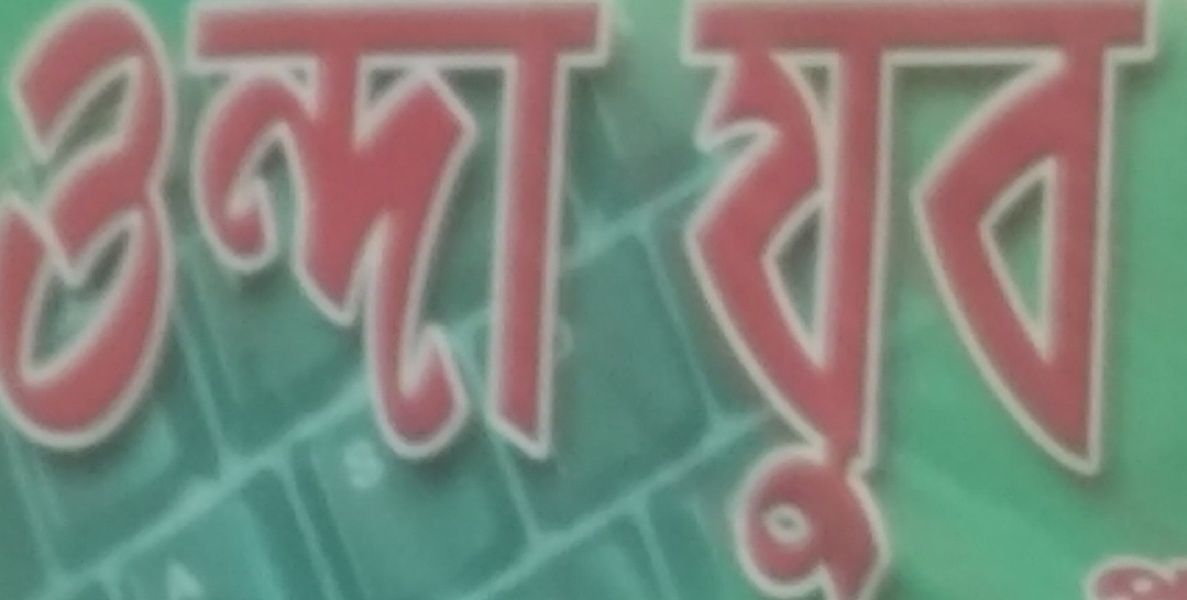text: (673, 1, 688, 598), (689, 1, 704, 598), (705, 1, 720, 598), (721, 1, 736, 598), (737, 1, 752, 598), (753, 1, 768, 598), (769, 1, 784, 598), (785, 1, 800, 598), (801, 1, 816, 598), (817, 1, 832, 598), (833, 1, 848, 598), (849, 1, 864, 598), (865, 1, 880, 598), (881, 1, 896, 598), (897, 1, 912, 598), (913, 1, 928, 598), (929, 1, 944, 598), (945, 1, 960, 598), (961, 1, 976, 598), (977, 1, 992, 598), (993, 1, 1008, 598), (1009, 1, 1024, 598), (1025, 1, 1040, 598), (1041, 1, 1056, 598), (1057, 1, 1072, 598), (1073, 1, 1088, 598), (1089, 1, 1104, 598), (1105, 1, 1120, 598), (1121, 1, 1136, 598), (1137, 1, 1152, 598), (1153, 1, 1166, 598), (1, 1, 16, 464), (17, 1, 32, 464), (33, 1, 48, 464), (49, 1, 64, 464), (65, 1, 80, 464), (81, 1, 96, 464), (97, 1, 112, 464), (113, 1, 128, 464), (129, 1, 144, 464), (145, 1, 160, 464), (161, 1, 176, 464), (177, 1, 192, 464), (193, 1, 208, 464), (209, 1, 224, 464), (225, 1, 240, 464), (241, 1, 256, 464), (257, 1, 272, 464), (273, 1, 288, 464), (289, 1, 304, 464), (305, 1, 320, 464), (321, 1, 336, 464), (337, 1, 352, 464), (353, 1, 368, 464), (369, 1, 384, 464), (385, 1, 400, 464), (401, 1, 416, 464), (417, 1, 432, 464), (433, 1, 448, 464), (449, 1, 464, 464), (465, 1, 480, 464), (481, 1, 496, 464), (497, 1, 512, 464), (513, 1, 528, 464), (529, 1, 544, 464), (545, 1, 560, 464), (561, 1, 576, 464), (577, 1, 592, 464), (593, 1, 608, 464), (662, 1, 672, 598), (609, 1, 621, 464), (1089, 554, 1104, 597), (1105, 554, 1120, 597), (1121, 554, 1136, 597), (1137, 554, 1152, 597), (1153, 554, 1168, 597), (1169, 554, 1184, 597), (1083, 554, 1088, 597), (1185, 554, 1187, 597)
